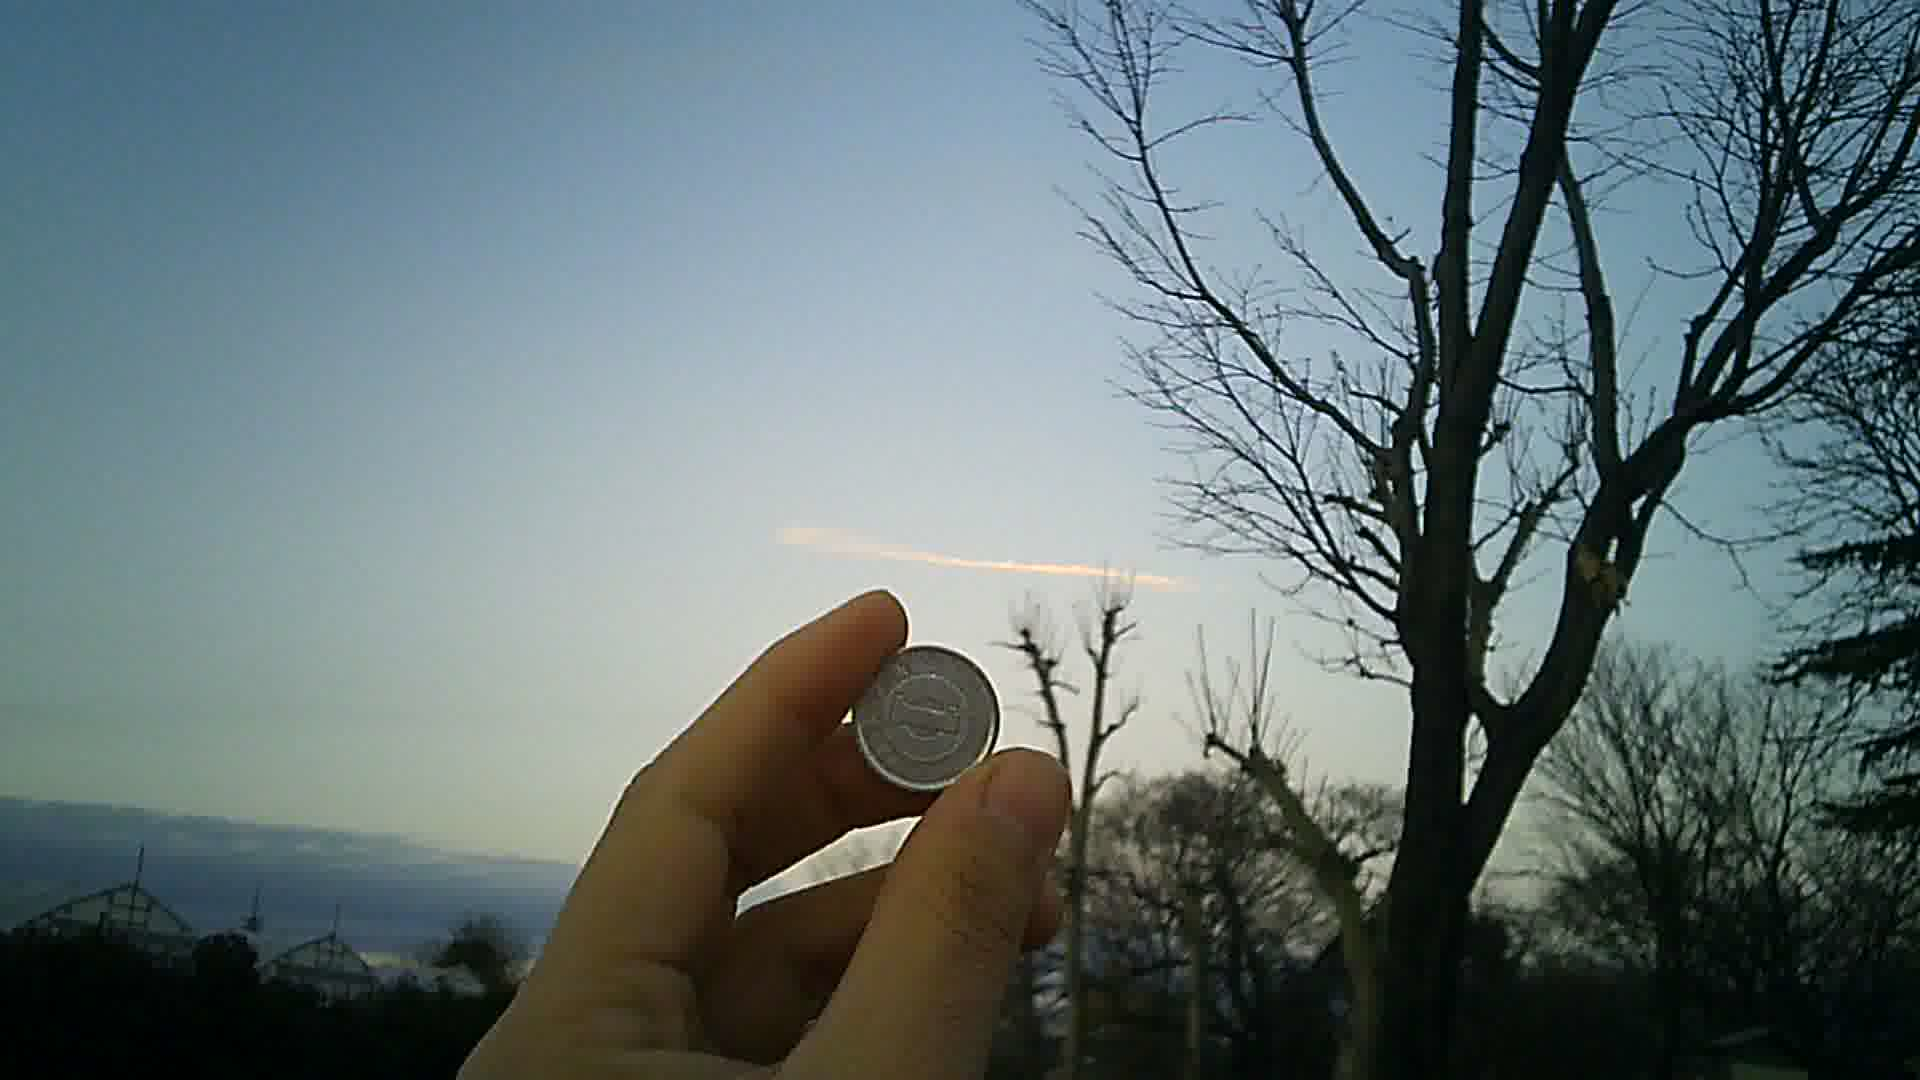1 Yen: (858, 649, 1005, 791)
